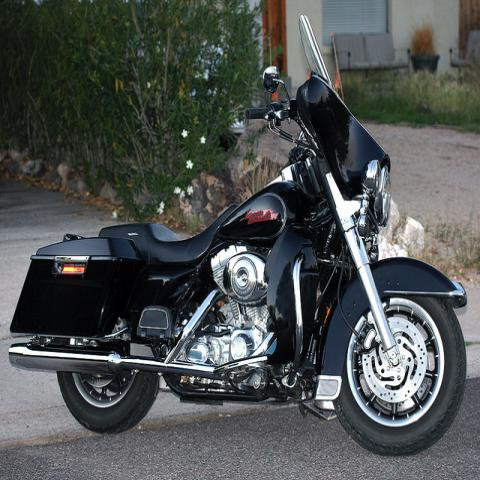motorcycle: (7, 9, 470, 462)
